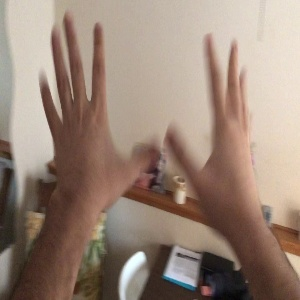hand: (37, 12, 162, 188), (167, 35, 261, 211)
